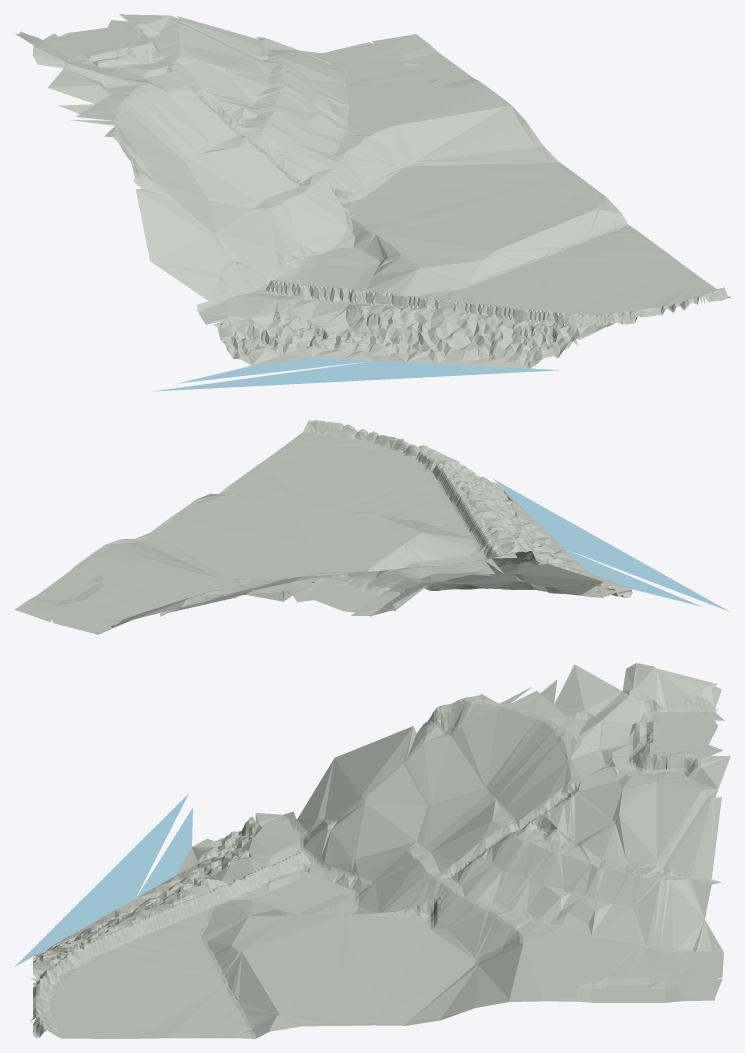
File: terrain-context-C-x3-z0.glb
3 renders of one model, top to bottom at view 1: azimuth 30°, elevation 25°; view 2: azimuth 150°, elevation 25°; view 3: azimuth 270°, elevation 25°, orthographic. The views are drawn at different scales.
Parts seen in each view (by area): view 1: C-x3-z0; view 2: C-x3-z0; view 3: C-x3-z0.
Part boxes in pixels (x1=…): C-x3-z0: x1=15, y1=14, x2=730, y2=391; C-x3-z0: x1=14, y1=420, x2=729, y2=634; C-x3-z0: x1=14, y1=663, x2=730, y2=1038.
Size of the model in its own units: 92.64 by 28.61 by 105.
